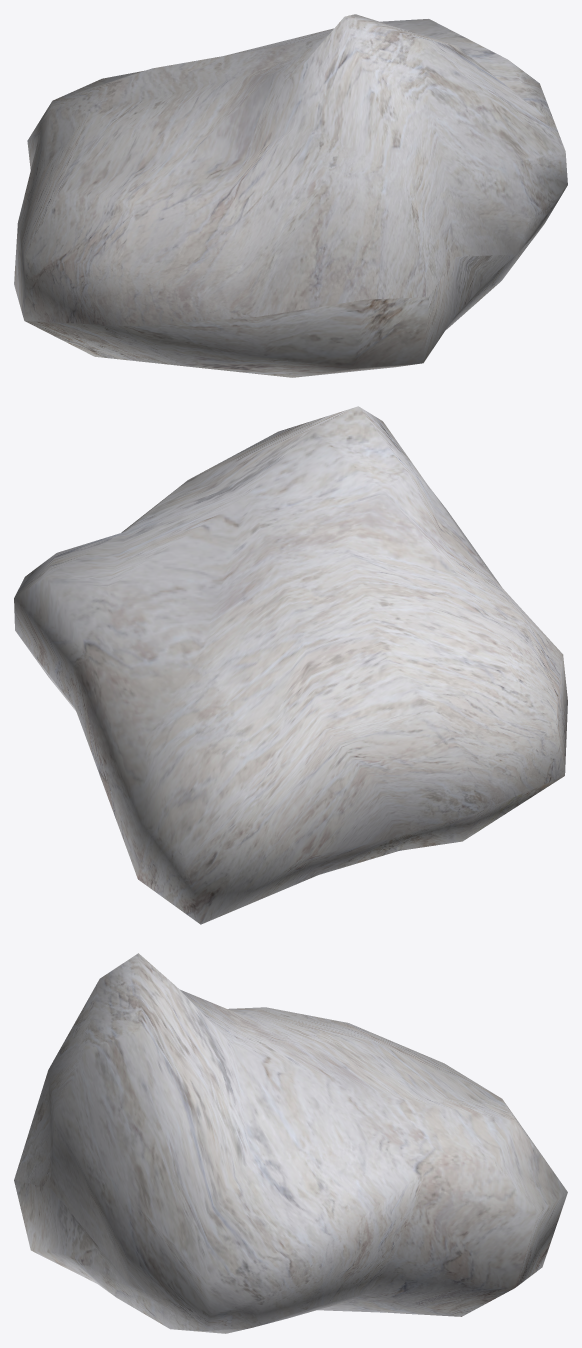
The model's file is Rock4.fbx.
The picture shows the model from 3 angles, top to bottom: view 1: azimuth 30°, elevation 25°; view 2: azimuth 150°, elevation 25°; view 3: azimuth 270°, elevation 25°; orthographic projection. The views are drawn at different scales.
Parts seen in each view (by area): view 1: Cube; view 2: Cube; view 3: Cube.
Part boxes in pixels (x1,y1,x2,y2): Cube: (14, 14, 567, 377); Cube: (14, 406, 567, 924); Cube: (14, 953, 567, 1333).
Bounding box in the file's own units: 364 × 245 × 344.
1 material, 1 textured.
